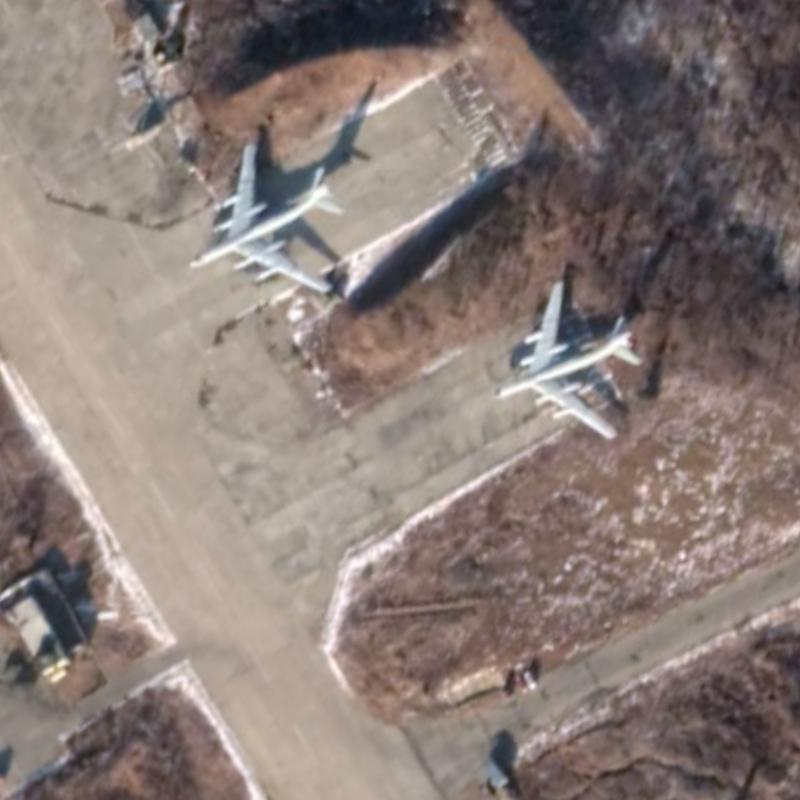A17: (185, 139, 349, 296), (488, 276, 643, 442)
